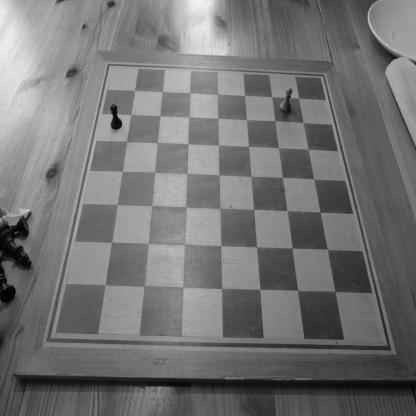black-bishop: (0, 228, 33, 270)
black-pawn: (109, 103, 123, 130)
white-knight: (0, 207, 33, 230)
white-pawn: (279, 87, 293, 113)
